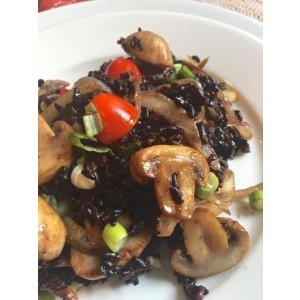milk_brain food: (121, 32, 179, 66)
mushroom_brain food: (134, 147, 213, 203)
